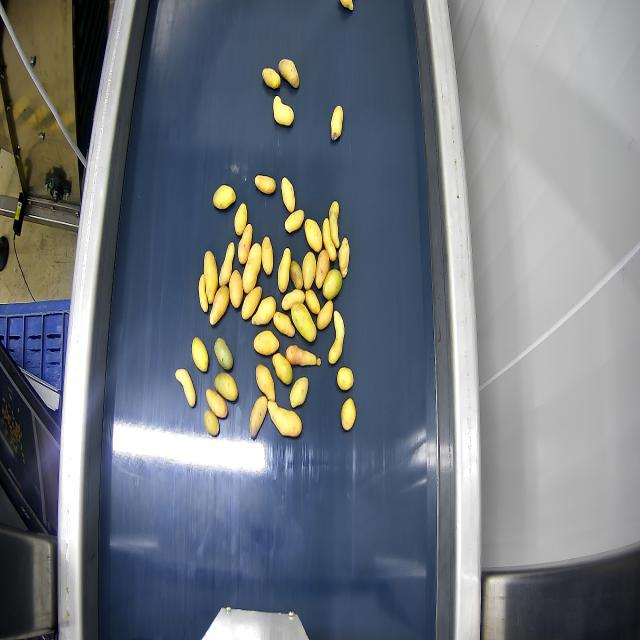Baby Potato: (268, 401, 301, 437), (291, 303, 316, 343), (243, 243, 261, 293), (328, 311, 344, 364), (210, 286, 230, 326), (175, 368, 195, 407), (204, 251, 218, 304), (285, 345, 320, 366), (250, 396, 267, 438), (252, 296, 275, 326), (219, 242, 234, 286), (191, 336, 209, 372), (214, 373, 237, 401), (241, 287, 261, 319), (273, 96, 294, 126), (256, 364, 274, 399), (214, 337, 233, 370), (254, 330, 279, 355), (272, 353, 292, 384), (322, 269, 342, 300), (304, 218, 322, 252), (206, 389, 227, 418), (278, 59, 299, 88), (322, 218, 336, 261), (228, 270, 243, 309), (238, 224, 252, 264), (273, 312, 295, 337), (315, 249, 329, 288), (278, 248, 290, 293), (290, 377, 308, 407), (213, 185, 235, 209), (302, 252, 316, 289), (281, 177, 295, 213), (316, 301, 333, 330), (282, 289, 304, 311), (329, 201, 339, 248), (262, 237, 274, 276), (341, 398, 355, 431), (285, 209, 304, 233), (331, 105, 343, 141), (234, 203, 247, 236), (339, 238, 349, 278), (204, 410, 219, 436), (262, 68, 280, 89), (255, 176, 276, 194), (305, 289, 320, 314), (337, 368, 353, 391), (290, 260, 302, 289), (199, 274, 208, 312), (340, 0, 353, 10)
